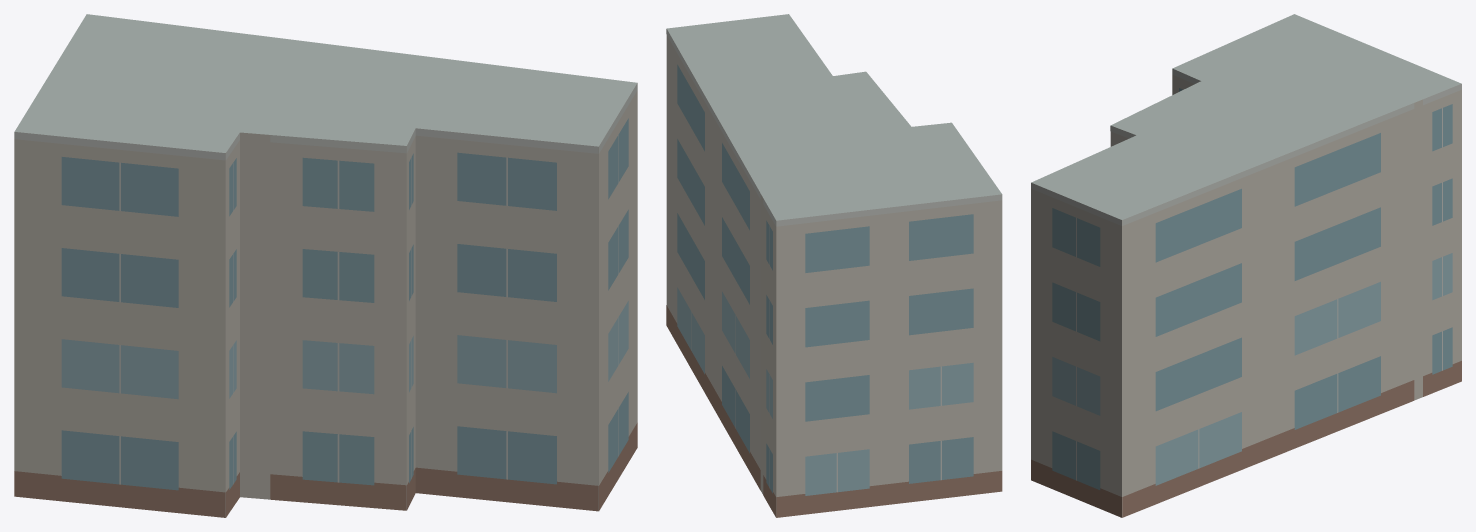
The model's file is survey-upis-32948346.glb.
3 views of the same model, side by side, from view 1: azimuth 30°, elevation 25°; view 2: azimuth 150°, elevation 25°; view 3: azimuth 270°, elevation 25° (orthographic). The views are drawn at different scales.
Parts seen in each view (by area): view 1: survey-upis-32948346.tmp; view 2: survey-upis-32948346.tmp; view 3: survey-upis-32948346.tmp.
Boxes of the visible parts, left/top/right/bottom form: survey-upis-32948346.tmp: left=14, top=14, right=637, bottom=517; survey-upis-32948346.tmp: left=666, top=14, right=1002, bottom=517; survey-upis-32948346.tmp: left=1031, top=14, right=1461, bottom=517.
Bounding box in the file's own units: 17.98 × 12.1 × 15.87.
